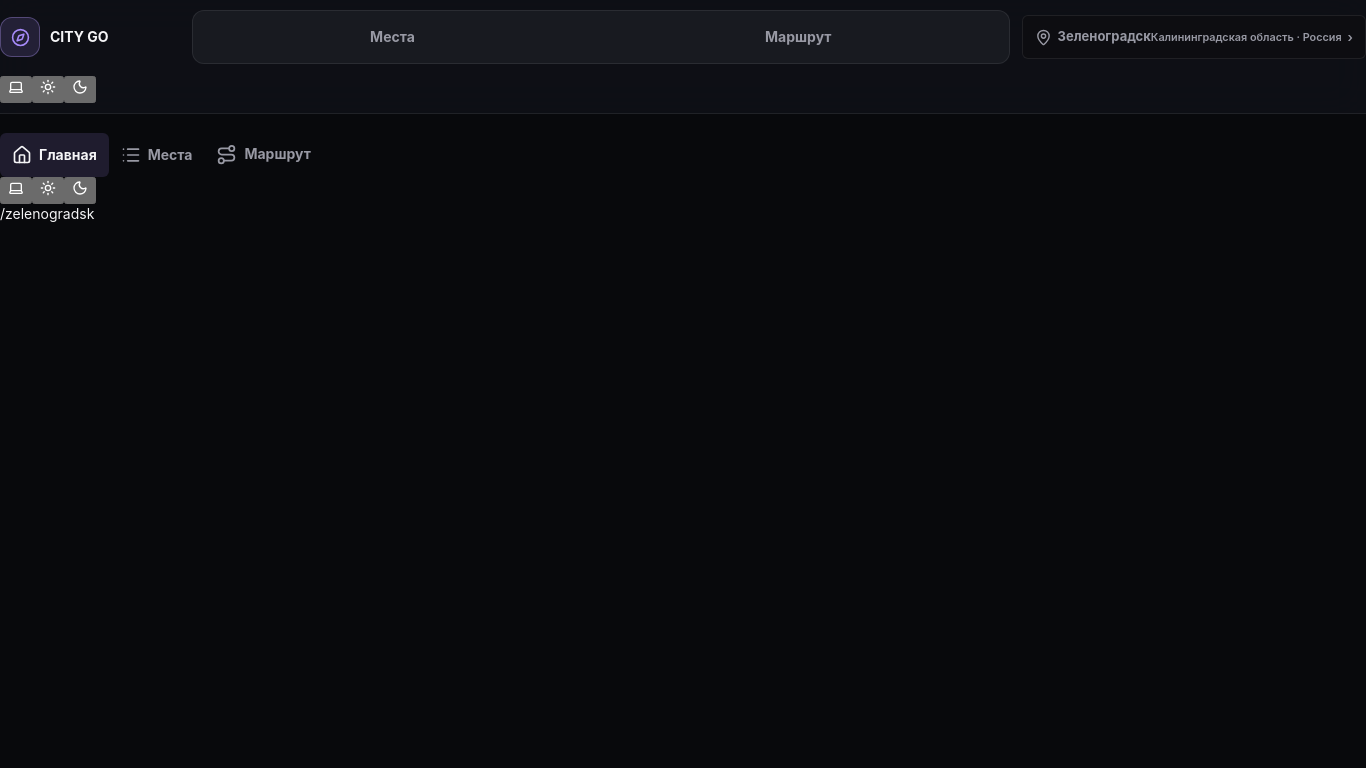
Test: AppHeader city picker › finds duplicate city names by region and opens the selected city route
The width and height of the screenshot is (1366, 768).
Click the button "Зеленоградск".
click(1194, 37)  # box [1022,15,1365,59]
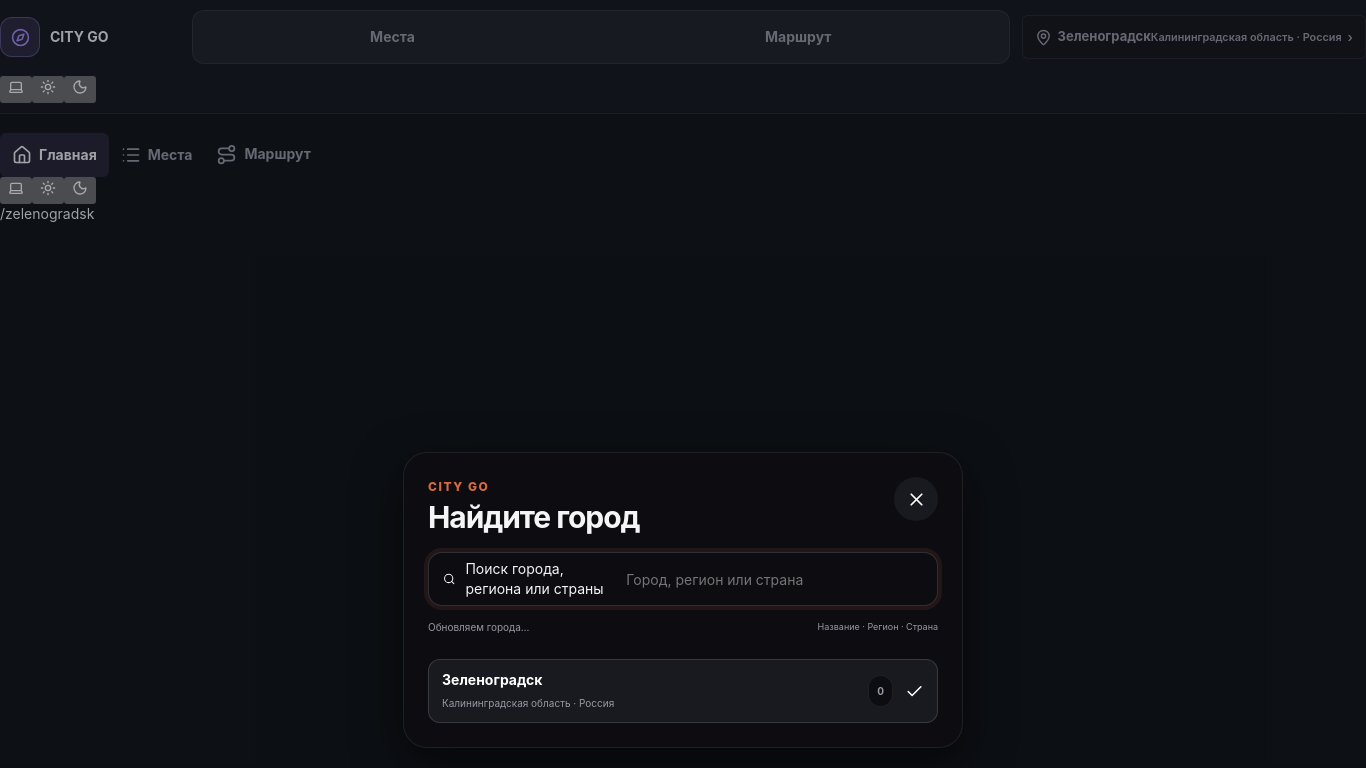
Type "Саратов" into the search field with placeholder "Город, регион или страна".
click(774, 579); type("Саратов")  # box [624,553,923,605]
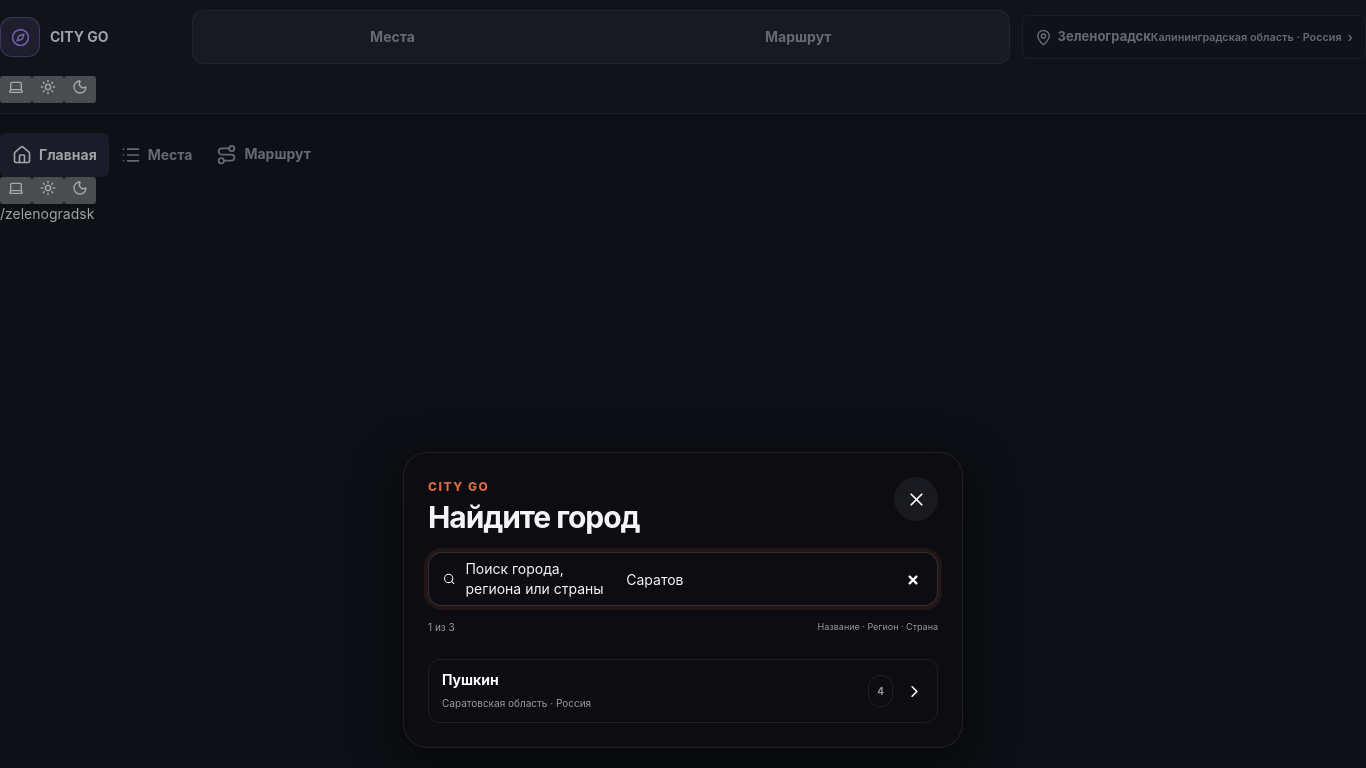
Click the button with aria-label "Выбрать Пушкин · Саратовская область · Россия".
click(470, 679)  # box [428,659,938,723]
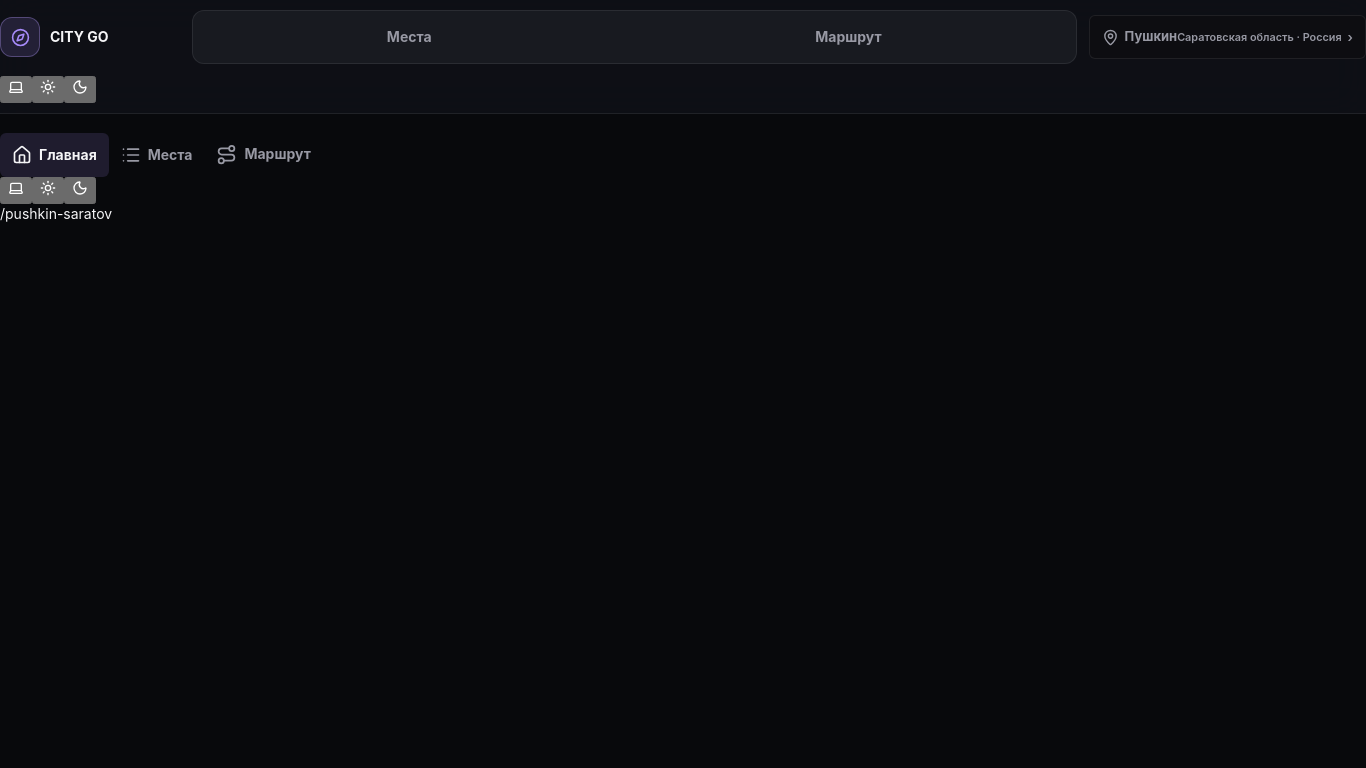
Check: the text with test id "location" reads "/pushkin-saratov", box [0,204,112,222]
